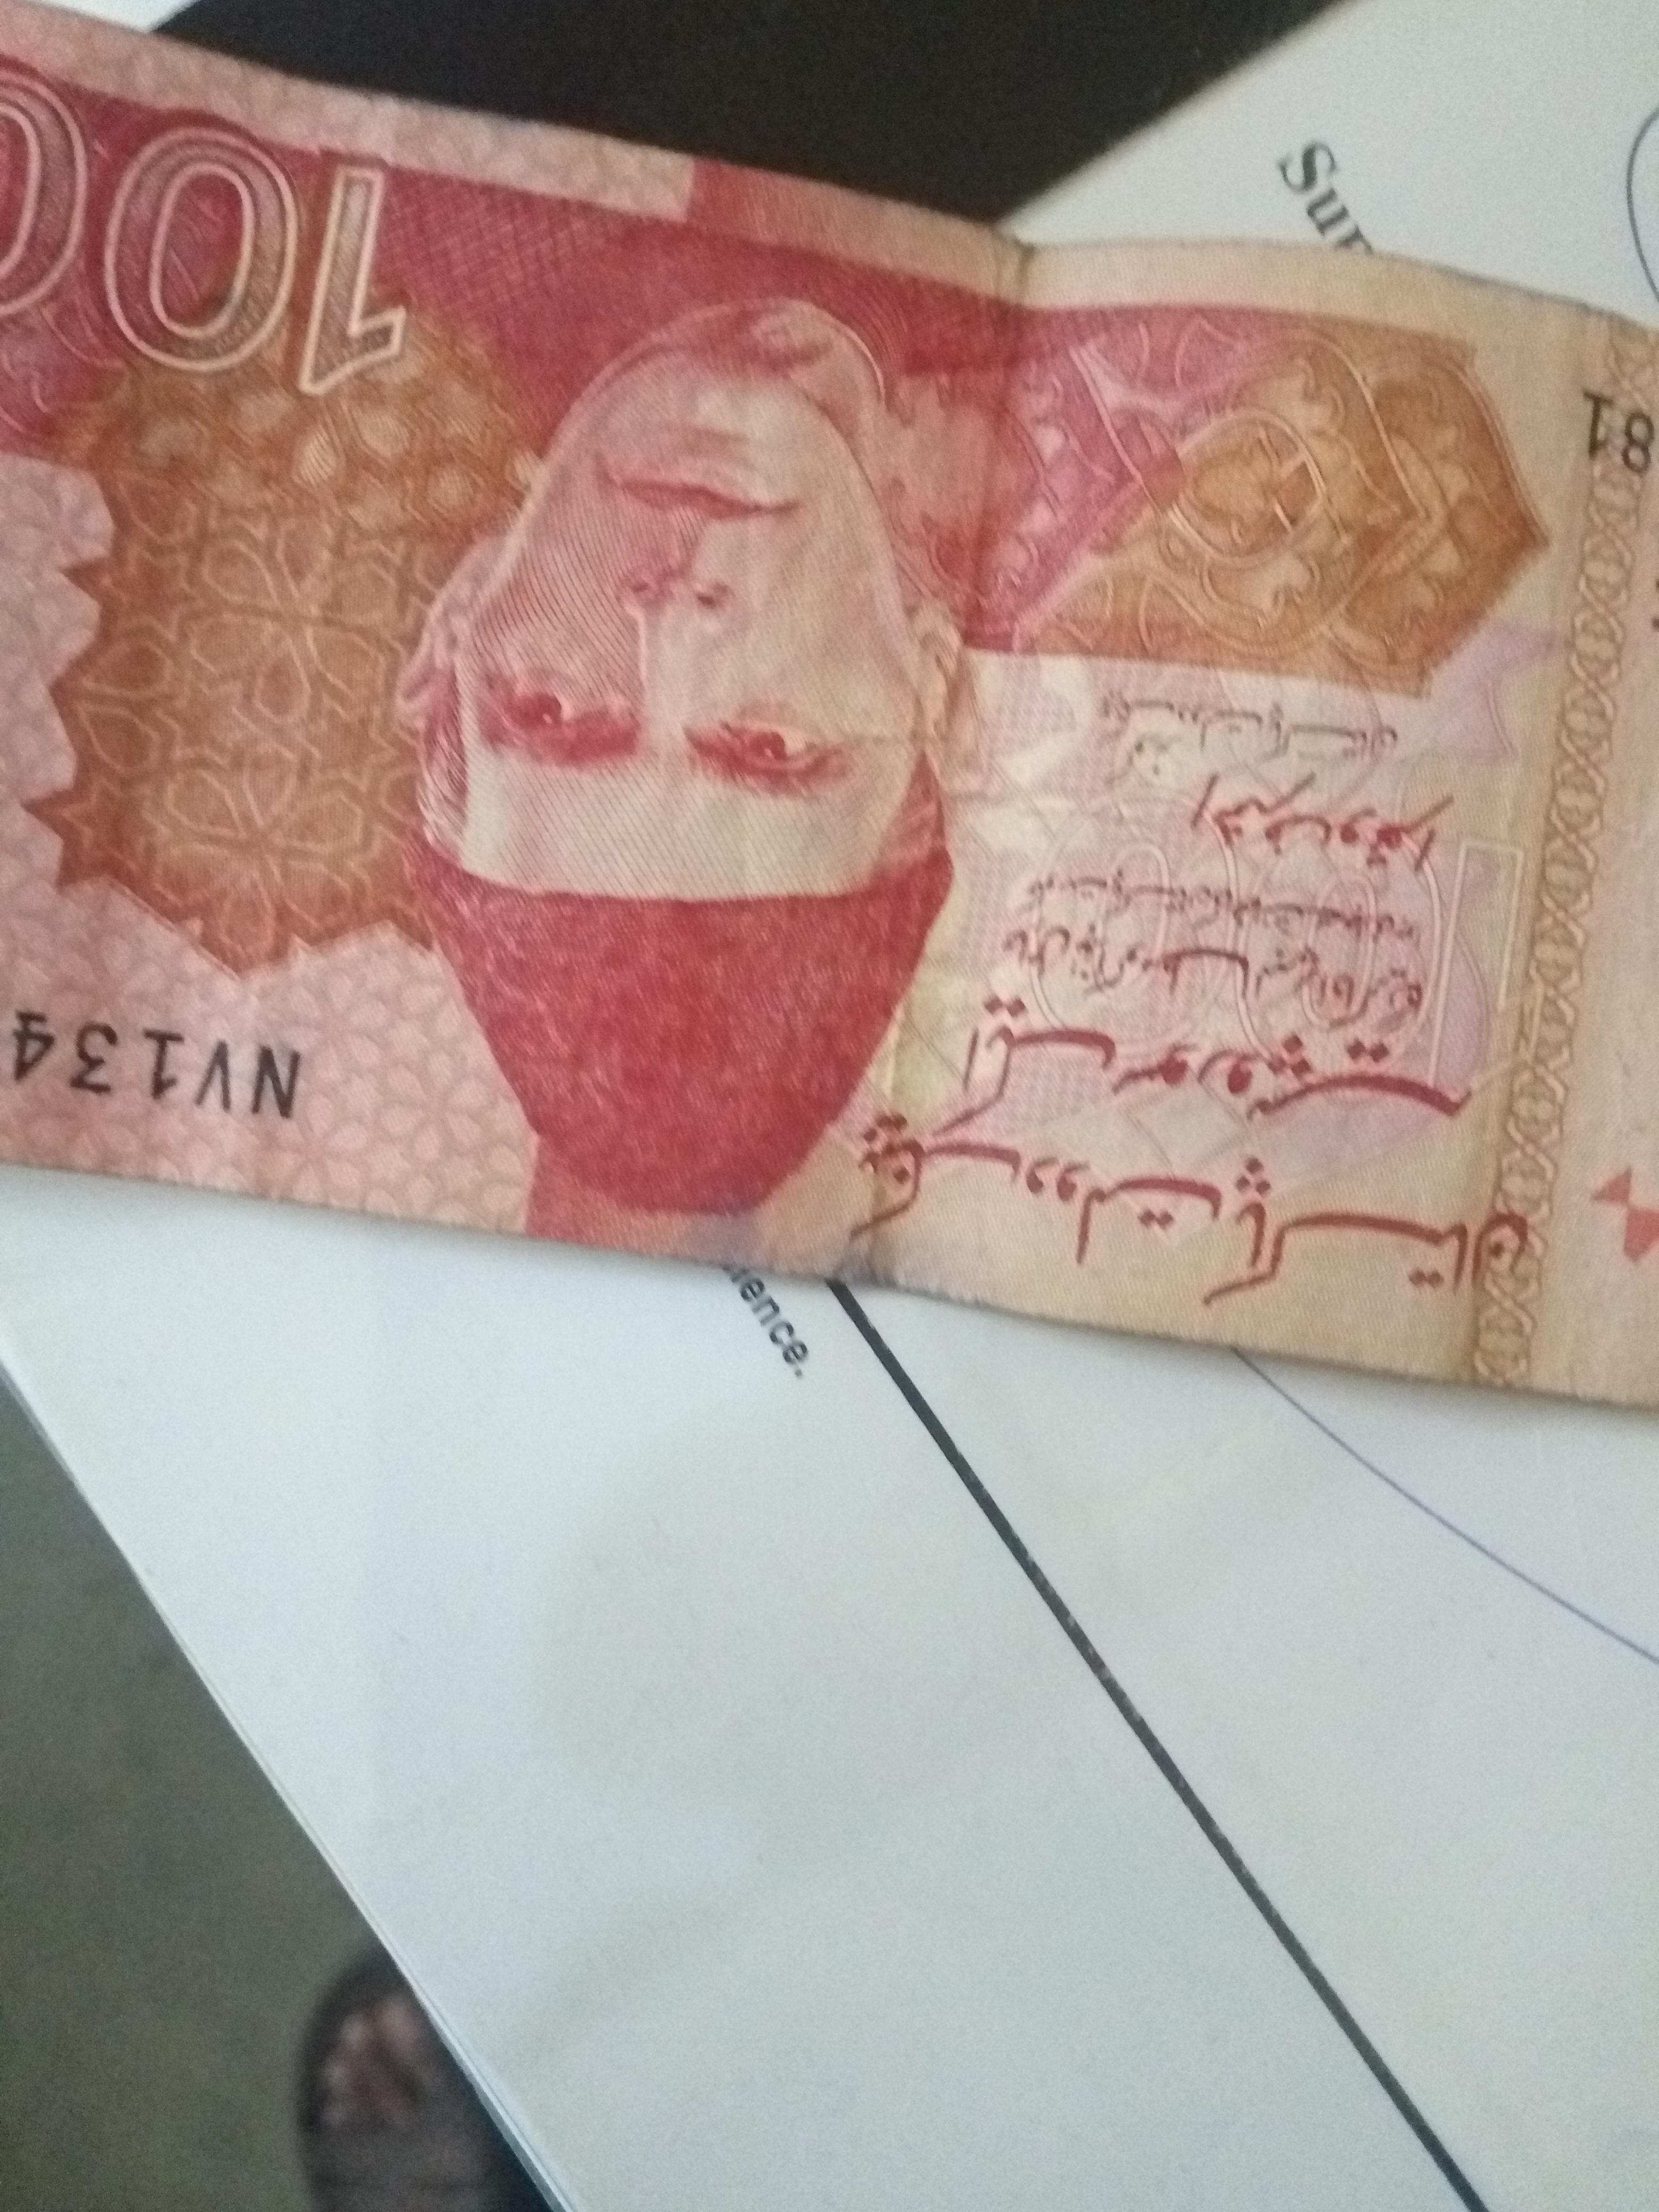100 rupee: (5, 42, 1659, 1393)
